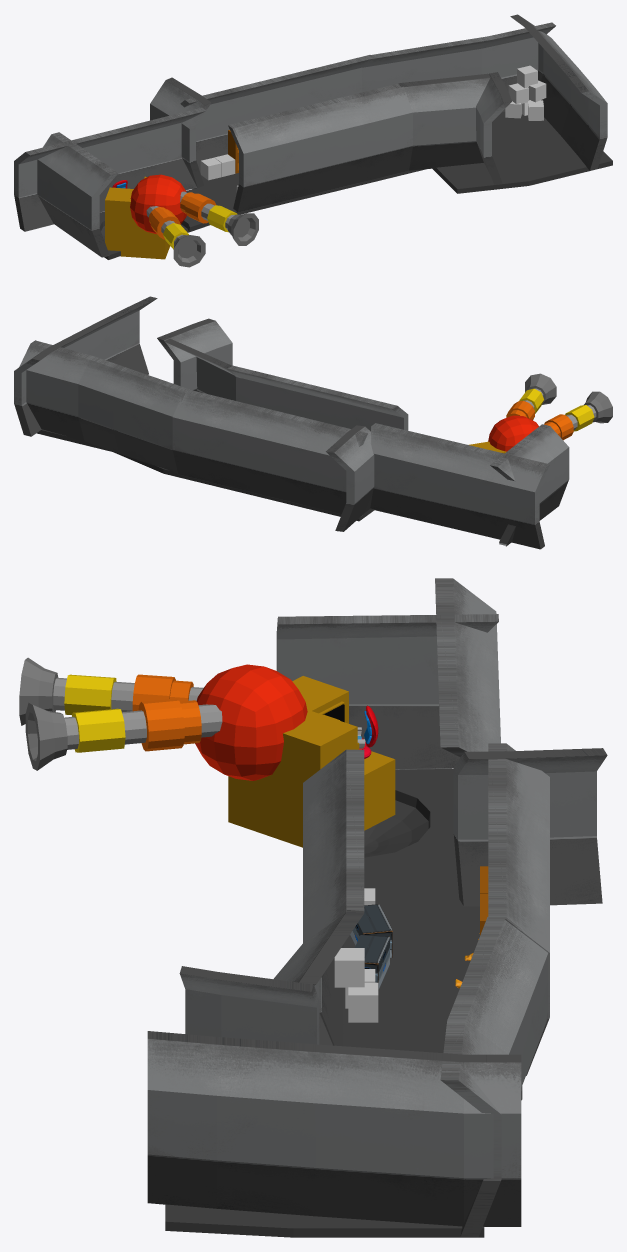
Rendered from onderverdiepingfgoedversie2.fbx.
3 views of the same model, one above another, from view 1: azimuth 30°, elevation 25°; view 2: azimuth 150°, elevation 25°; view 3: azimuth 270°, elevation 25° (orthographic). The views are drawn at different scales.
Visible parts, largest first — view 1: Cube, Cube.031, Cube.050, Cube.004, Cube.007, Cube.006, Cube.011, Cube.051, Cube.029, Cube.017, Cube.030, Cube.008 (+8 smaller); view 2: Cube.004, Cube.050, Cube.007, Cube, Cube.011, Cube.051, Cube.017, Cube.008, Cube.006, Cube.031, Cube.030, Circle.001 (+4 smaller); view 3: Cube.011, Cube.031, Cube.051, Cube.007, Cube.017, Cube.001, Cube, Cube.029, Cube.004, Cube.050, Cube.030, Cube.008 (+13 smaller).
Part boxes in pixels (left/top/right/bottom): Cube: left=228, top=83, right=412, bottom=212; Cube.031: left=192, top=111, right=612, bottom=214; Cube.050: left=14, top=107, right=206, bottom=231; Cube.004: left=180, top=55, right=374, bottom=174; Cube.007: left=362, top=22, right=555, bottom=112; Cube.006: left=398, top=73, right=490, bottom=170; Cube.011: left=510, top=14, right=607, bottom=170; Cube.051: left=37, top=132, right=118, bottom=257; Cube.029: left=105, top=176, right=174, bottom=259; Cube.017: left=150, top=77, right=211, bottom=187; Cube.030: left=130, top=174, right=186, bottom=233; Cube.008: left=476, top=72, right=511, bottom=184; Cube.004: left=172, top=389, right=367, bottom=516; Cube.050: left=370, top=423, right=549, bottom=549; Cube.007: left=19, top=340, right=190, bottom=473; Cube: left=226, top=365, right=408, bottom=431; Cube.011: left=14, top=296, right=157, bottom=436; Cube.051: left=490, top=424, right=569, bottom=546; Cube.017: left=326, top=425, right=374, bottom=531; Cube.008: left=157, top=318, right=232, bottom=390; Cube.006: left=164, top=338, right=241, bottom=400; Cube.031: left=36, top=429, right=374, bottom=521; Cube.030: left=488, top=415, right=538, bottom=451; Circle.001: left=584, top=391, right=612, bottom=423; Cube.011: left=147, top=1031, right=521, bottom=1226; Cube.031: left=165, top=899, right=522, bottom=1237; Cube.051: left=276, top=614, right=498, bottom=769; Cube.007: left=440, top=917, right=548, bottom=1237; Cube.017: left=453, top=748, right=607, bottom=906; Cube.001: left=364, top=769, right=461, bottom=921; Cube: left=303, top=749, right=364, bottom=1046; Cube.029: left=228, top=676, right=395, bottom=847; Cube.004: left=488, top=743, right=549, bottom=1075; Cube.050: left=435, top=578, right=500, bottom=757; Cube.030: left=195, top=664, right=307, bottom=780; Cube.008: left=179, top=966, right=319, bottom=1044.
Size of the model in its own units: 3698 by 637 by 1829.
